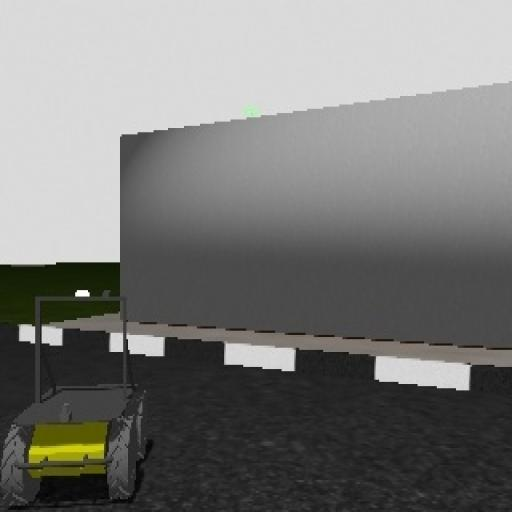huskya200: (1, 278, 147, 512)
